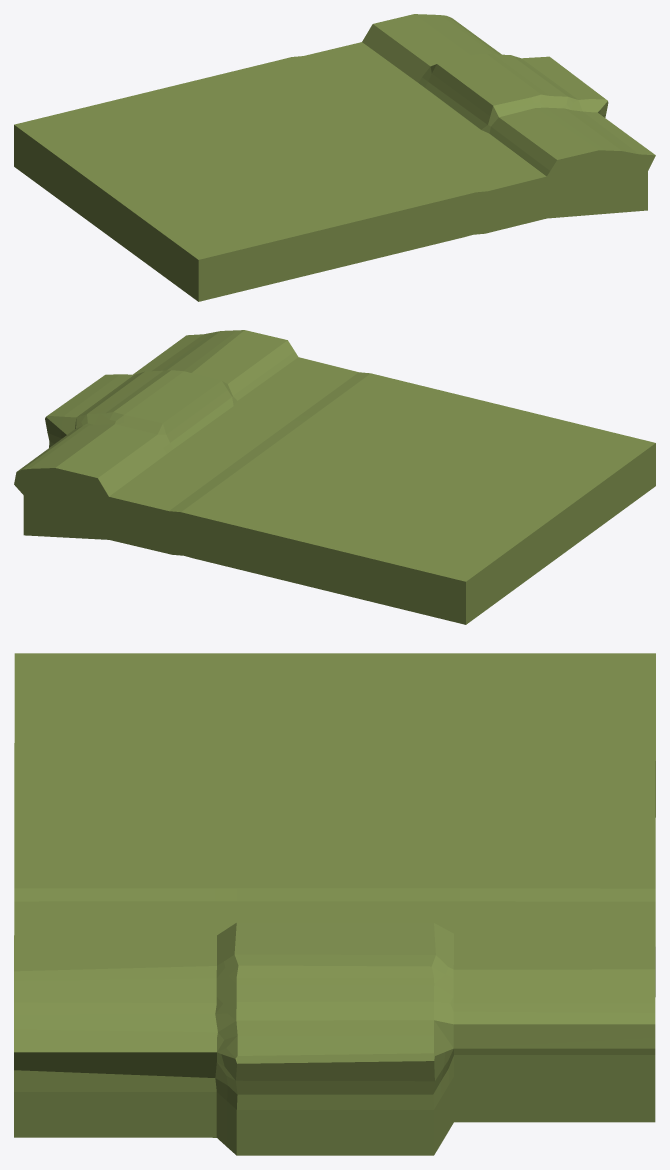
The model's file is Edge.fbx.
The picture shows the model from 3 angles, top to bottom: view 1: azimuth 30°, elevation 25°; view 2: azimuth 150°, elevation 25°; view 3: azimuth 270°, elevation 25°; orthographic projection. The views are drawn at different scales.
Parts seen in each view (by area): view 1: edge; view 2: edge; view 3: edge.
Part boxes in pixels (left/top/right/bottom): edge: left=14, top=14, right=655, bottom=301; edge: left=14, top=330, right=655, bottom=624; edge: left=14, top=653, right=655, bottom=1155.
Bounding box in the file's own units: 77.31 × 12.47 × 52.24.
